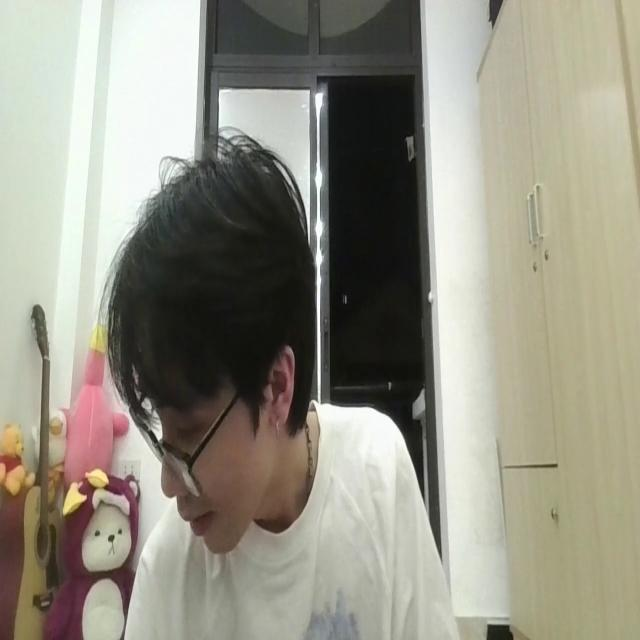student: (107, 126, 461, 640)
